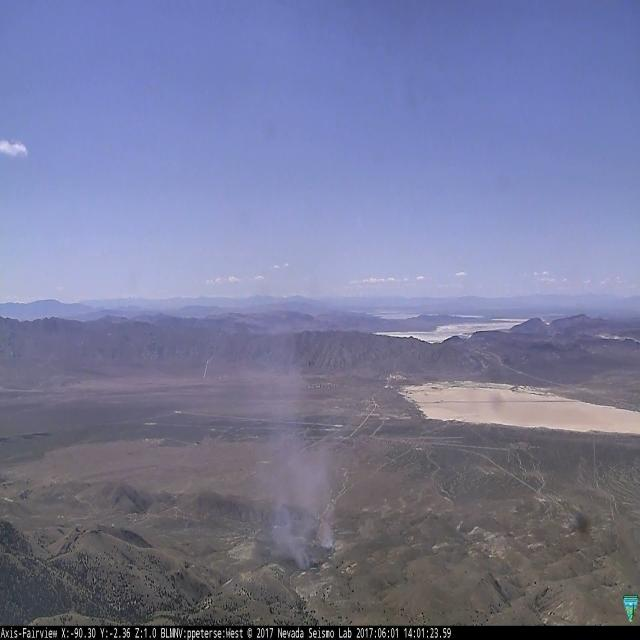smoke: (269, 326, 336, 550), (271, 495, 312, 570)
